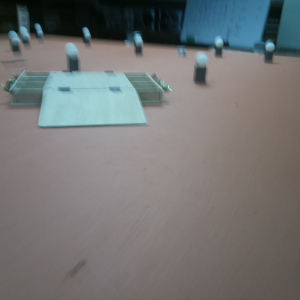corner: (20, 10, 30, 35)
obstacle: (193, 54, 208, 86), (66, 43, 79, 71), (133, 32, 145, 57), (264, 41, 274, 63), (214, 37, 224, 58), (83, 27, 91, 47), (11, 37, 21, 53), (20, 28, 30, 44), (37, 25, 44, 40), (10, 32, 18, 41)
slope: (38, 85, 147, 131)
